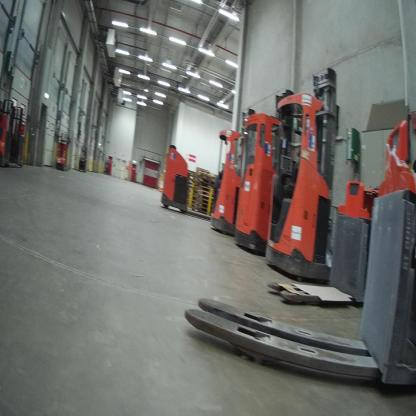forklift: (264, 64, 344, 289), (229, 92, 293, 263), (205, 123, 249, 236)
pallet_truck: (174, 105, 415, 390), (270, 164, 382, 327), (153, 137, 220, 222), (1, 96, 35, 171), (55, 130, 70, 173)
